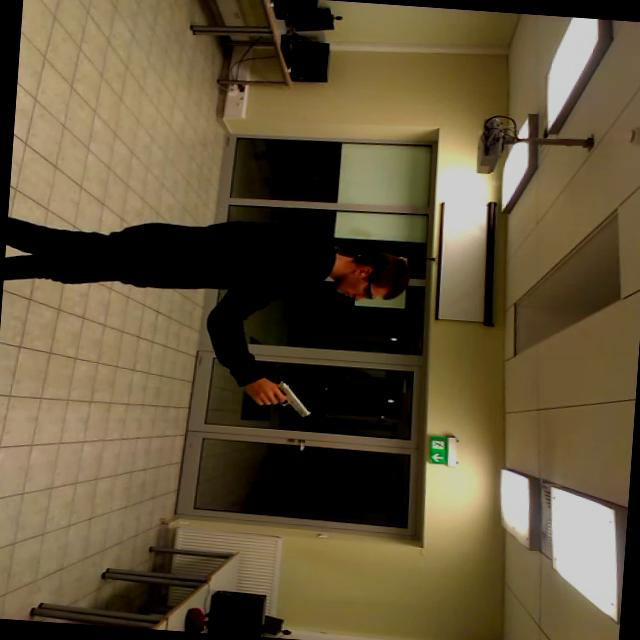handgun: (250, 372, 314, 418)
